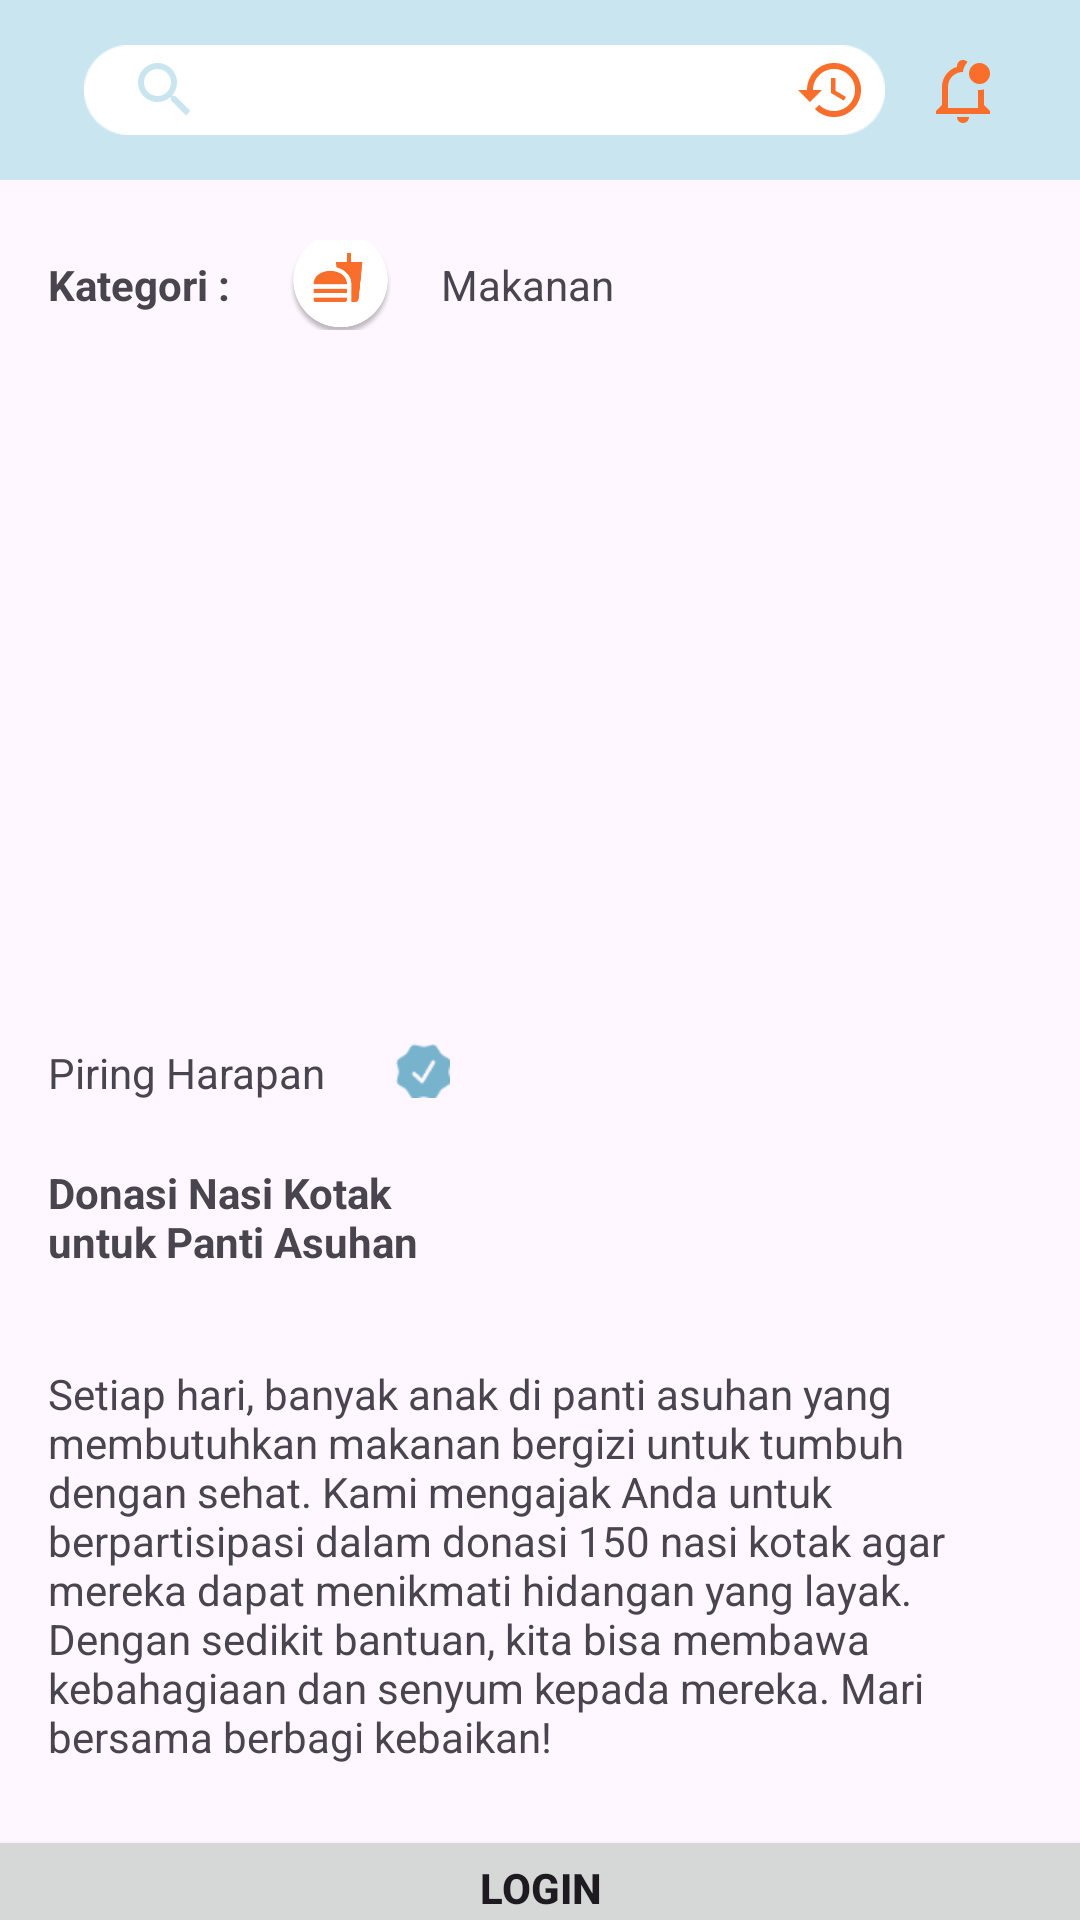

Where to tap for icons on this 1080*1920 app screen, as [x,y]:
history: [829,90]
notif: [963,91]
search: [164,89]
verify: [423,1071]
